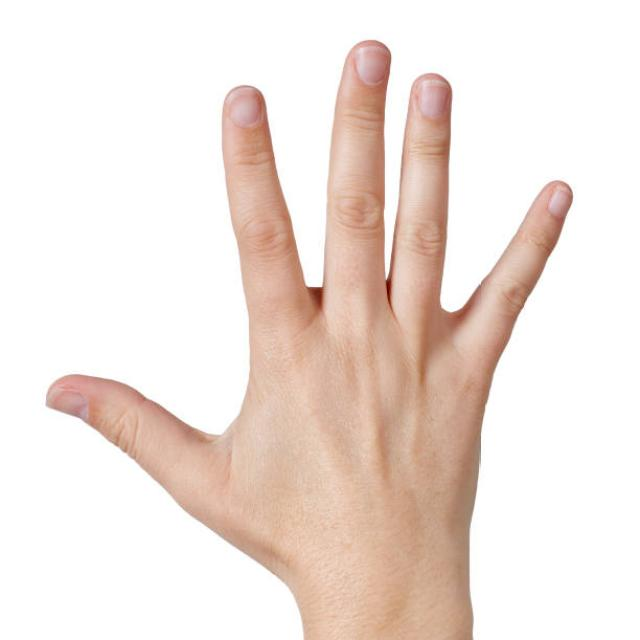Nail: (46, 387, 89, 421), (354, 45, 390, 85), (226, 86, 261, 127), (417, 79, 450, 117), (548, 182, 572, 218)
